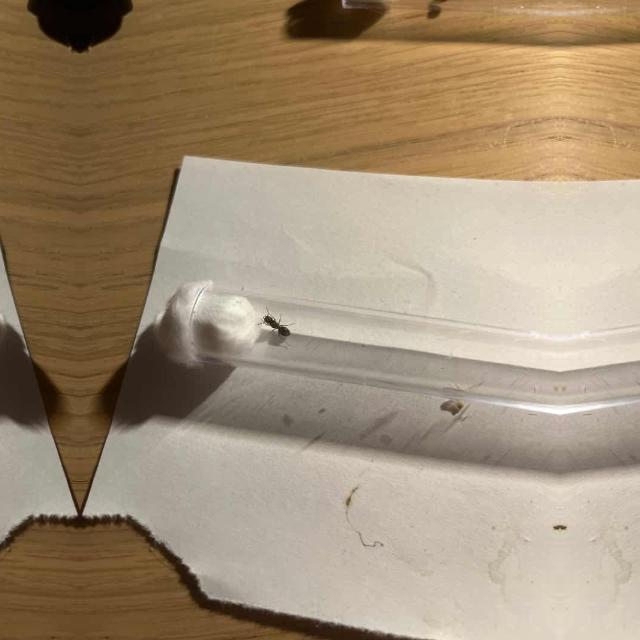Lasius: (256, 312, 294, 341)
